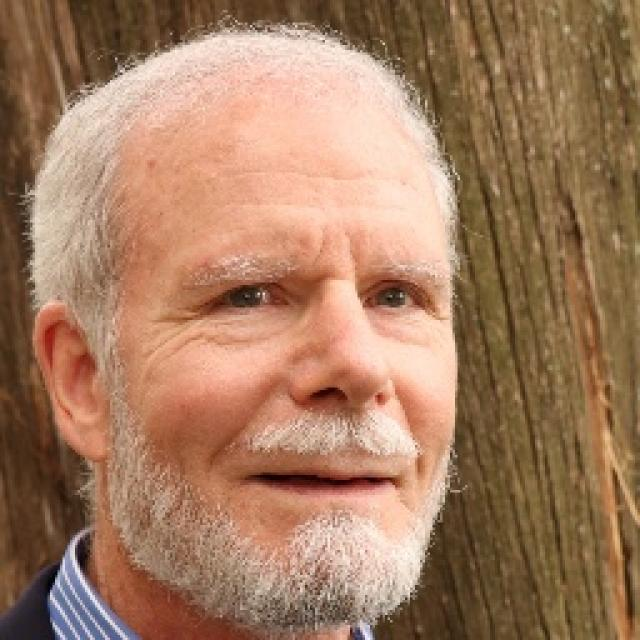earlobe: (34, 299, 116, 462)
